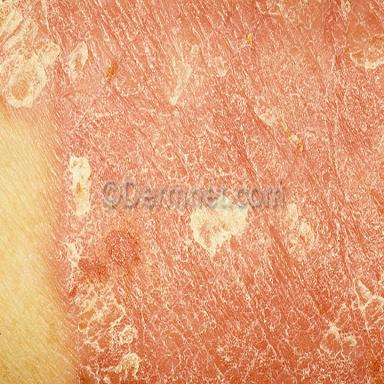Psoriasis: (1, 1, 384, 383)
